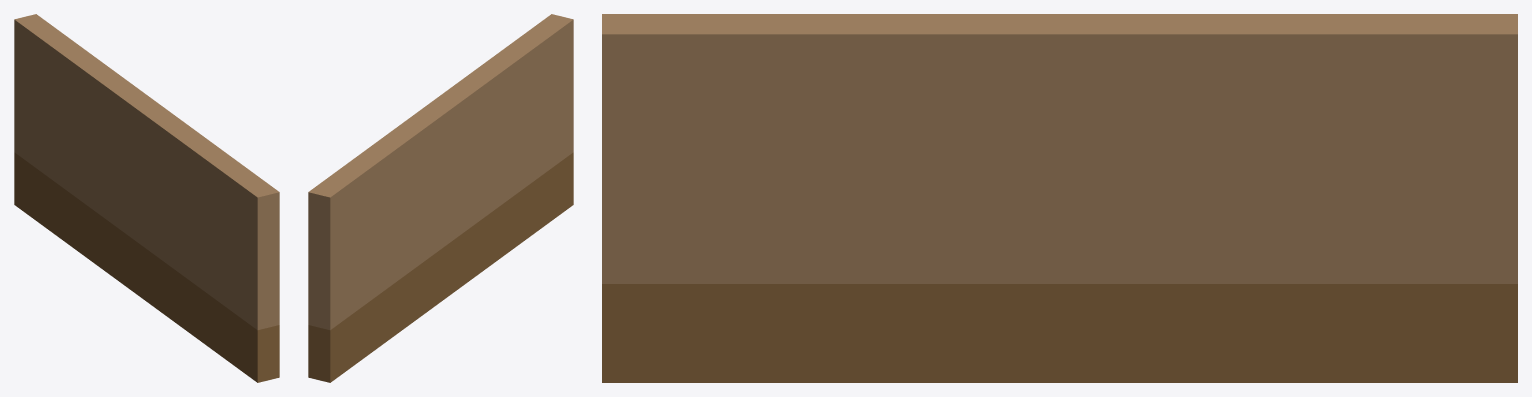
The model's file is Wall.fbx.
3 views of the same model, side by side, from view 1: azimuth 30°, elevation 25°; view 2: azimuth 150°, elevation 25°; view 3: azimuth 270°, elevation 25° (orthographic). The views are drawn at different scales.
Visible parts, largest first — view 1: pCube79; view 2: pCube79; view 3: pCube79.
Part boxes in pixels (bbox=[...]): pCube79: bbox=[14, 14, 279, 382]; pCube79: bbox=[308, 14, 573, 382]; pCube79: bbox=[602, 14, 1517, 382].
Bounding box in the file's own units: 1 × 8.03 × 19.1.
